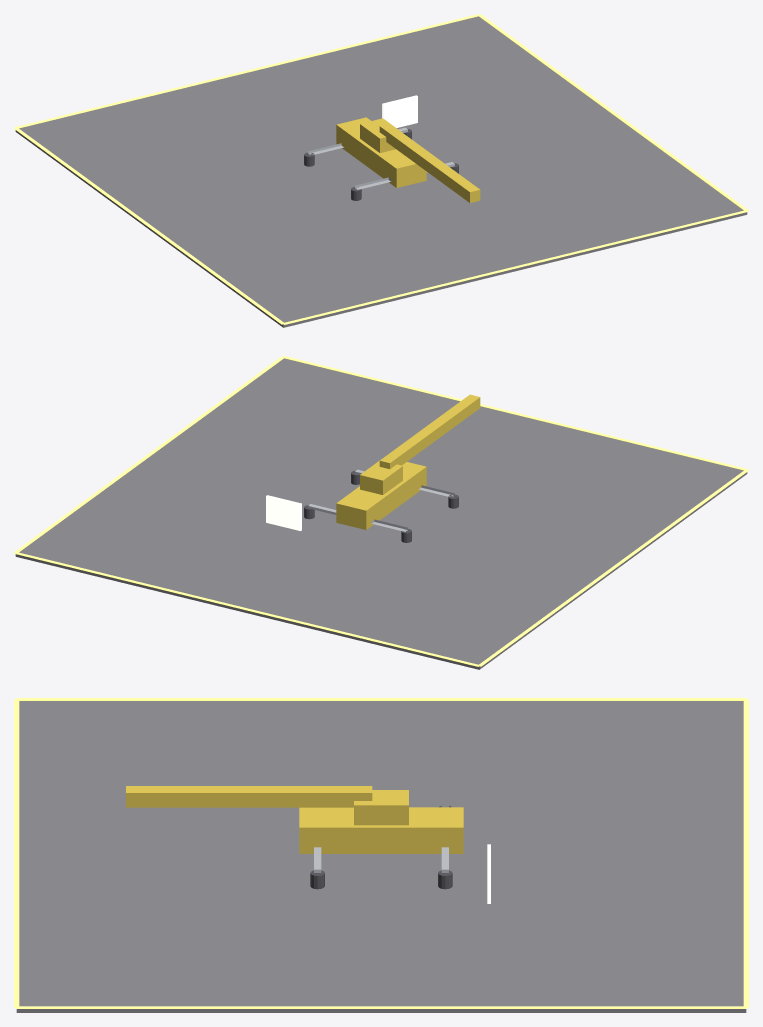
File: sim-load-chart.glb
3 renders of one model, top to bottom at view 1: azimuth 30°, elevation 25°; view 2: azimuth 150°, elevation 25°; view 3: azimuth 270°, elevation 25°, orthographic. The views are drawn at different scales.
Visible parts, largest first — view 1: Load Chart Judgment; view 2: Load Chart Judgment; view 3: Load Chart Judgment.
Part boxes in pixels (x1,y1,x2,y2): Load Chart Judgment: (14, 14, 748, 327); Load Chart Judgment: (14, 356, 748, 669); Load Chart Judgment: (14, 698, 748, 1012).
Bounding box in the file's own units: 40.3 × 4.2 × 40.3.
